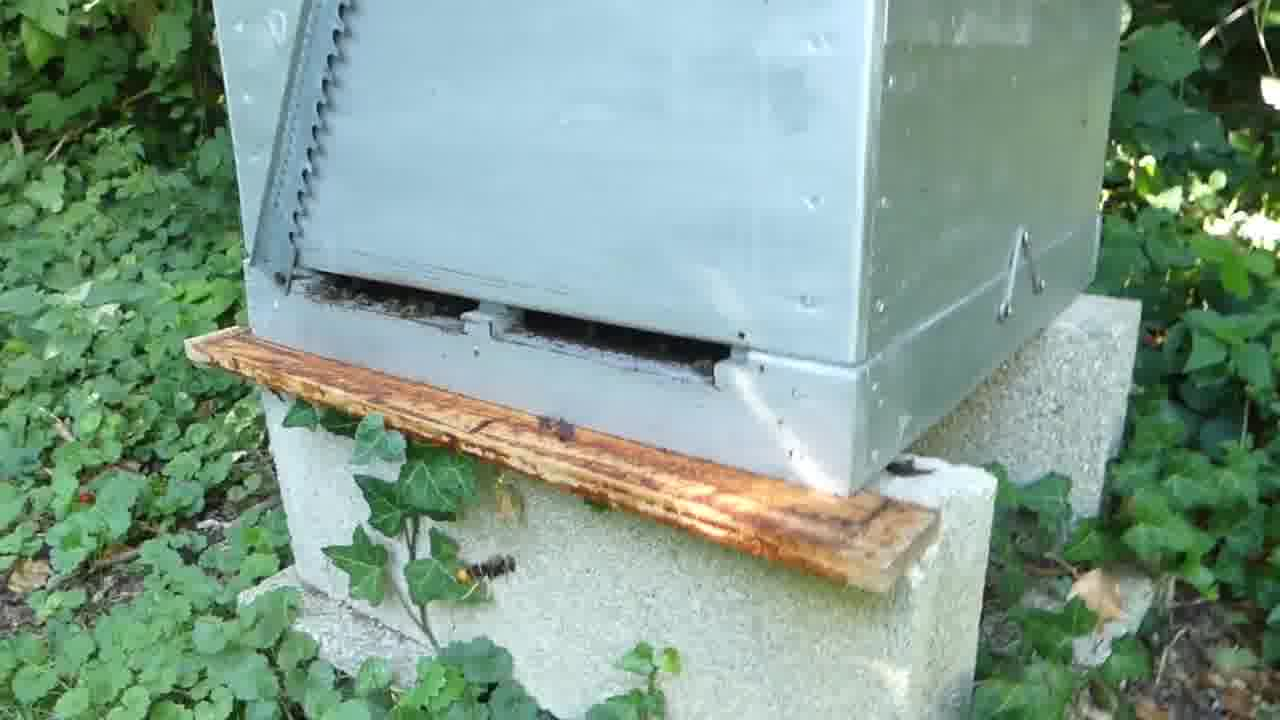hornet: (455, 553, 525, 589)
